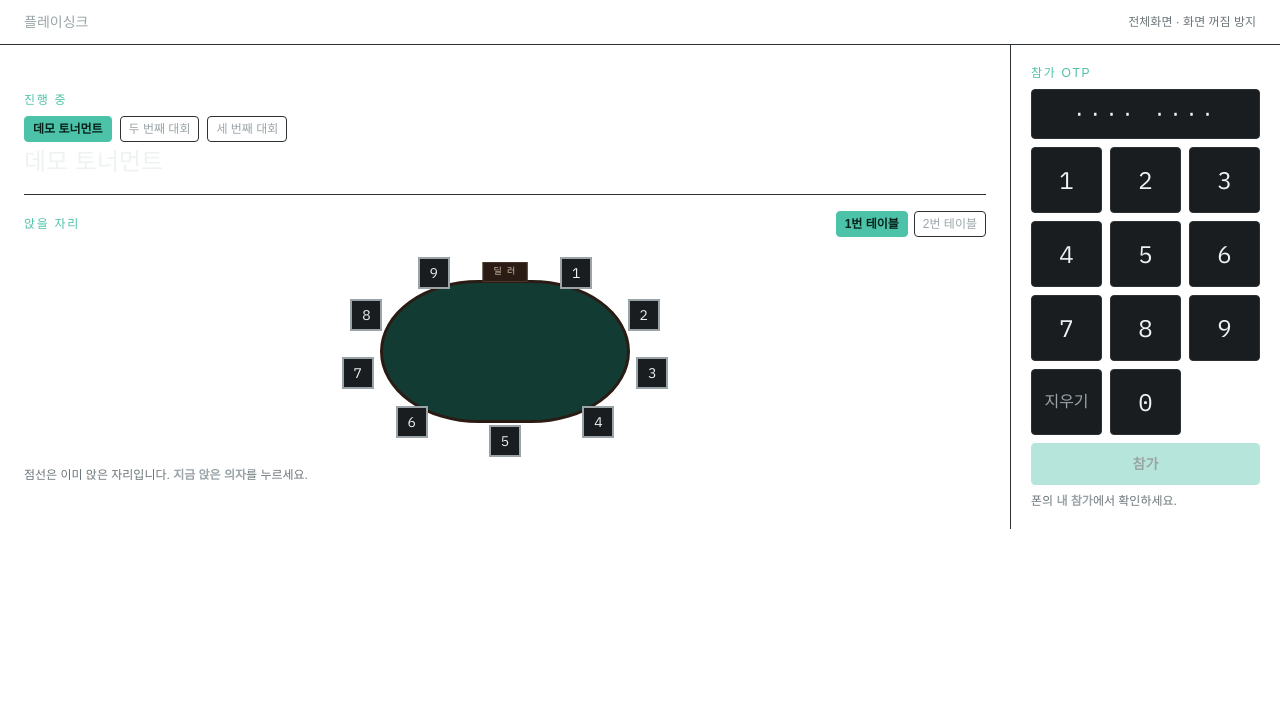
Test: WaitingClient — 대회 전환 › 두 번째 대회를 고르면 그 대회의 테이블과 좌석 도식으로 바뀐다
Expected: the button with test id "pick-table-tb1" is shown, [836,210,908,236]
Click the button with test id "pick-tournament-t2": point(160, 128) [120,116,200,142]
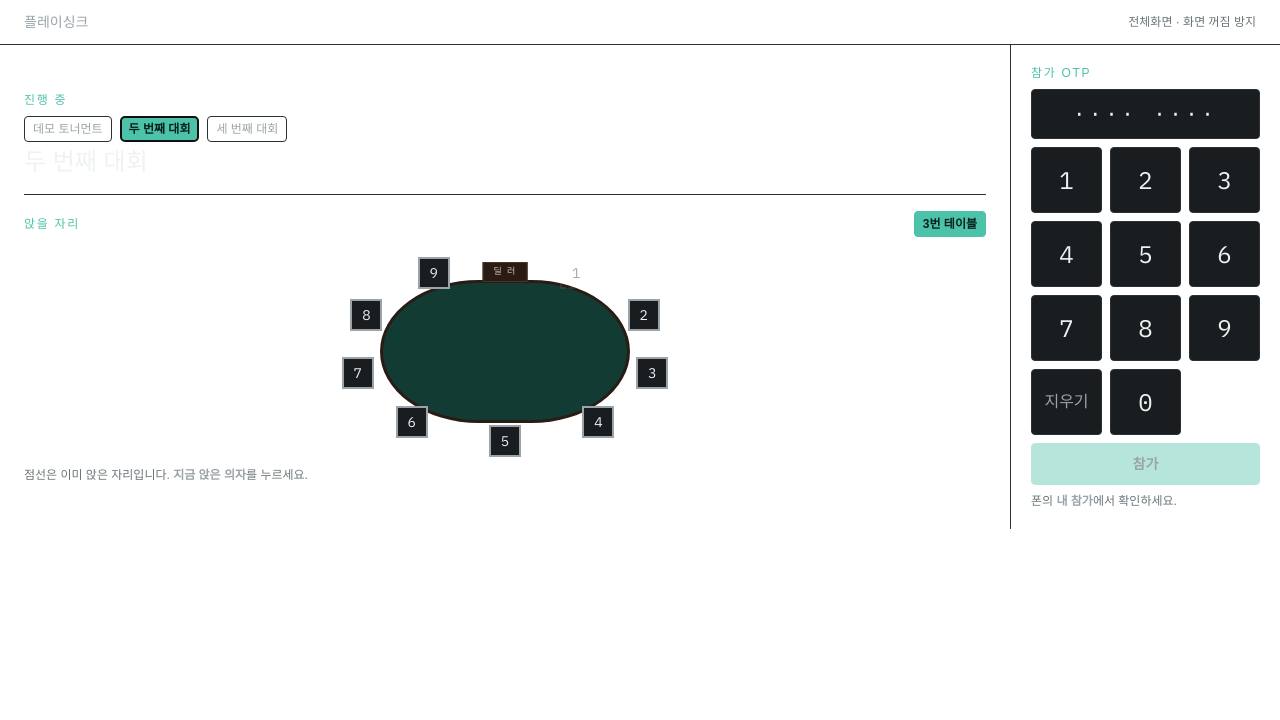
Expected: the button with test id "pick-table-tb-second" is shown, [914,210,986,236]
Expected: the button with test id "pick-table-tb1" is gone
Expected: the button with test id "pick-seat-0" is disabled, [560,257,592,289]
